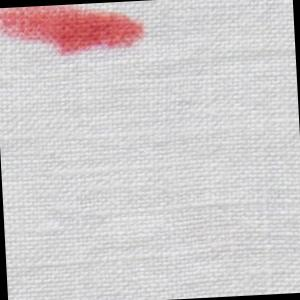Stain: (1, 1, 154, 62)
